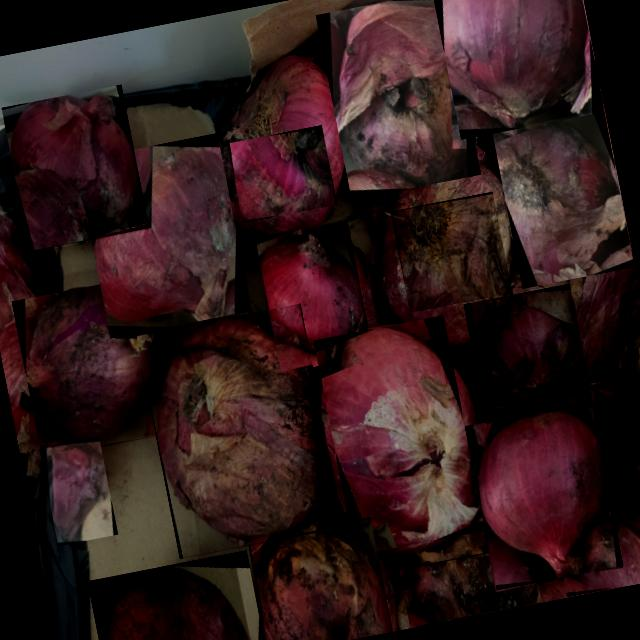healthy: (479, 412, 608, 578)
rotten: (314, 316, 485, 556), (157, 319, 331, 543), (76, 133, 252, 338), (315, 0, 481, 200), (12, 276, 174, 459), (488, 89, 635, 289), (2, 85, 150, 254), (464, 284, 594, 428), (443, 0, 589, 128), (255, 220, 374, 373), (248, 517, 393, 640), (390, 192, 512, 312), (399, 544, 542, 627), (98, 565, 250, 640), (228, 125, 338, 223), (40, 438, 119, 546), (582, 393, 640, 539), (555, 509, 640, 596)
